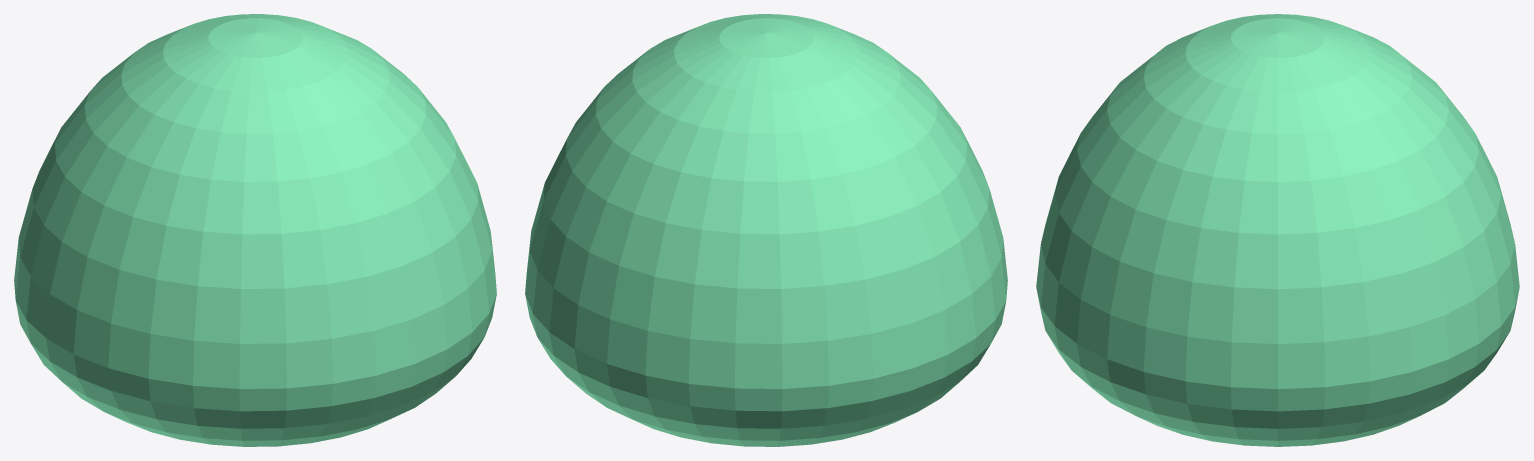
The model's file is player.obj.
3 renders of one model, left to right at view 1: azimuth 30°, elevation 25°; view 2: azimuth 150°, elevation 25°; view 3: azimuth 270°, elevation 25°, orthographic.
Parts seen in each view (by area): view 1: outer; view 2: outer; view 3: outer.
Boxes of the visible parts, x1,y1,x2,y2 form: outer: [14, 14, 496, 446]; outer: [525, 14, 1007, 446]; outer: [1036, 14, 1519, 446].
Size of the model in its own units: 1 by 0.8622 by 1.
2 materials, 2 textured.
